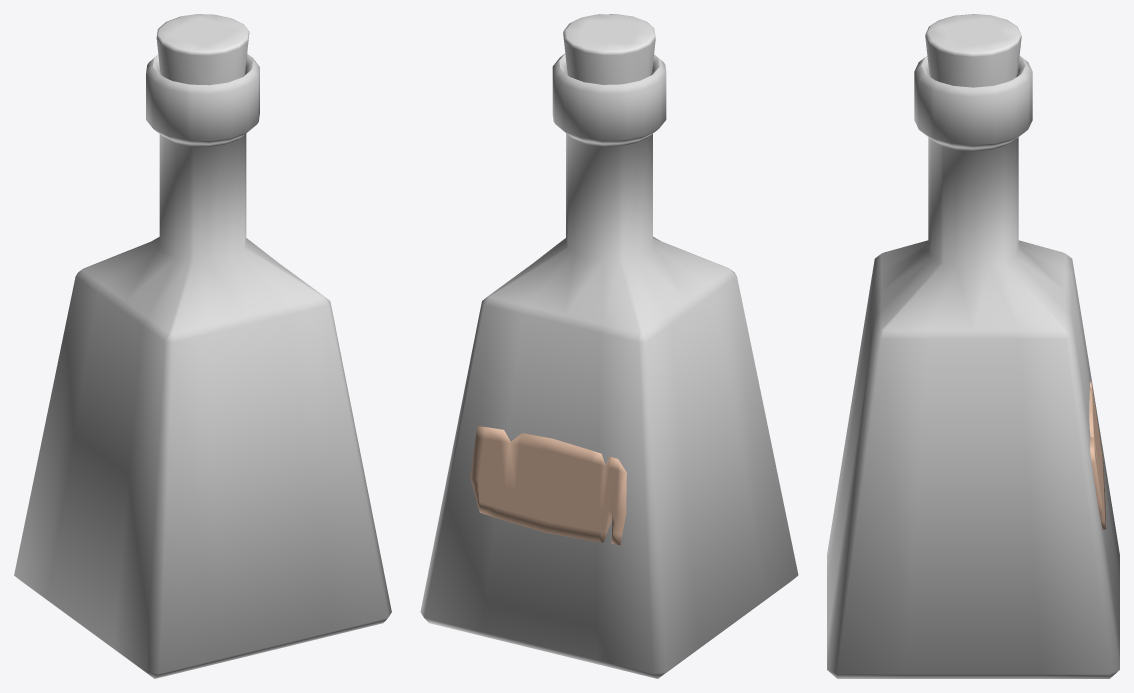
File: Potion4.fbx
3 renders of one model, left to right at view 1: azimuth 30°, elevation 25°; view 2: azimuth 150°, elevation 25°; view 3: azimuth 270°, elevation 25°, orthographic. The views are drawn at different scales.
Parts seen in each view (by area): view 1: Potion4; view 2: Potion4; view 3: Potion4.
Boxes of the visible parts, <box> form: Potion4: <box>14,14,391,678</box>; Potion4: <box>420,14,798,678</box>; Potion4: <box>827,14,1119,678</box>.
Bounding box in the file's own units: 0.7728 × 1.71 × 0.7728.
